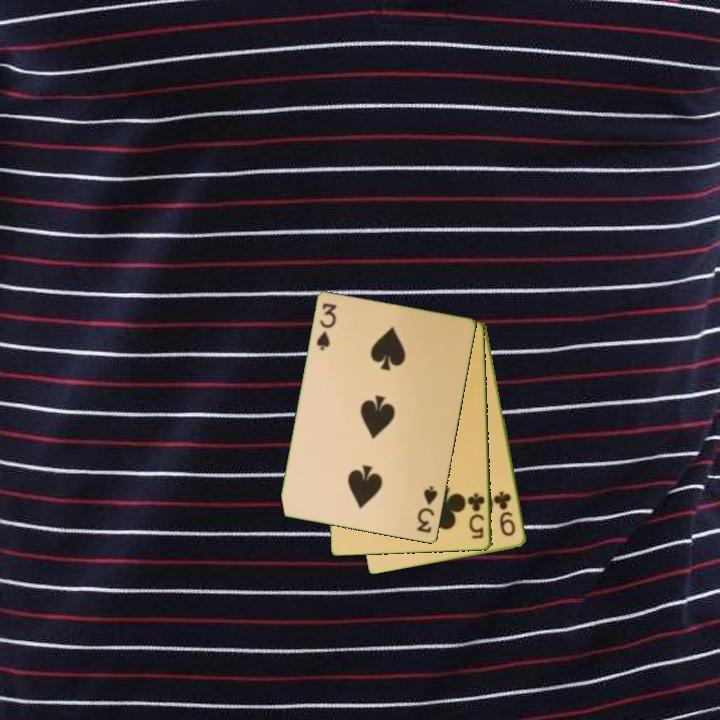3s: (313, 300, 340, 354), (414, 483, 441, 536)
5c: (464, 490, 488, 542)
9c: (492, 488, 519, 539)
